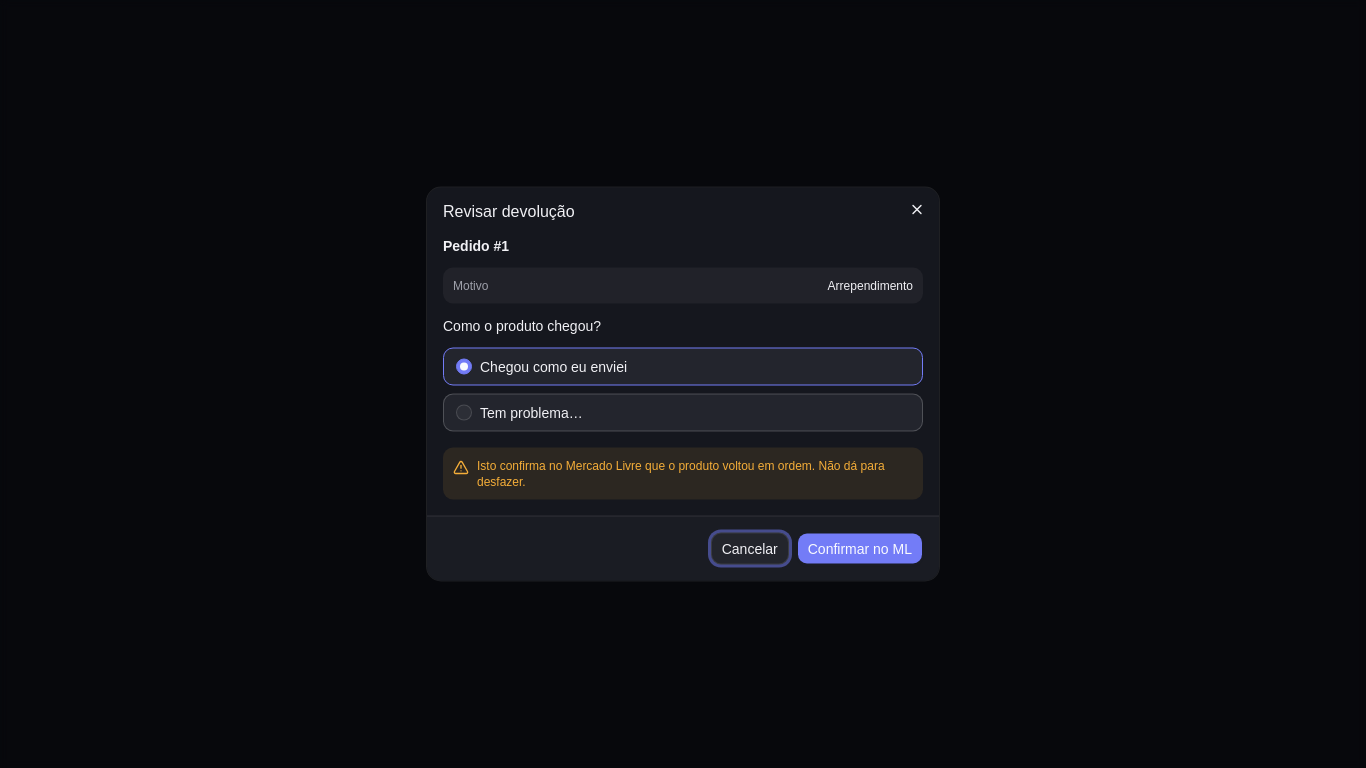
it: DialogoRevisarDevolucao › carrinho: pedido a pedido pede motivo para cada pedido
The width and height of the screenshot is (1366, 768).
Click the radio button named "Tem problema…" next to "Tem problema…". click: (464, 412)
box: [456, 404, 472, 420]
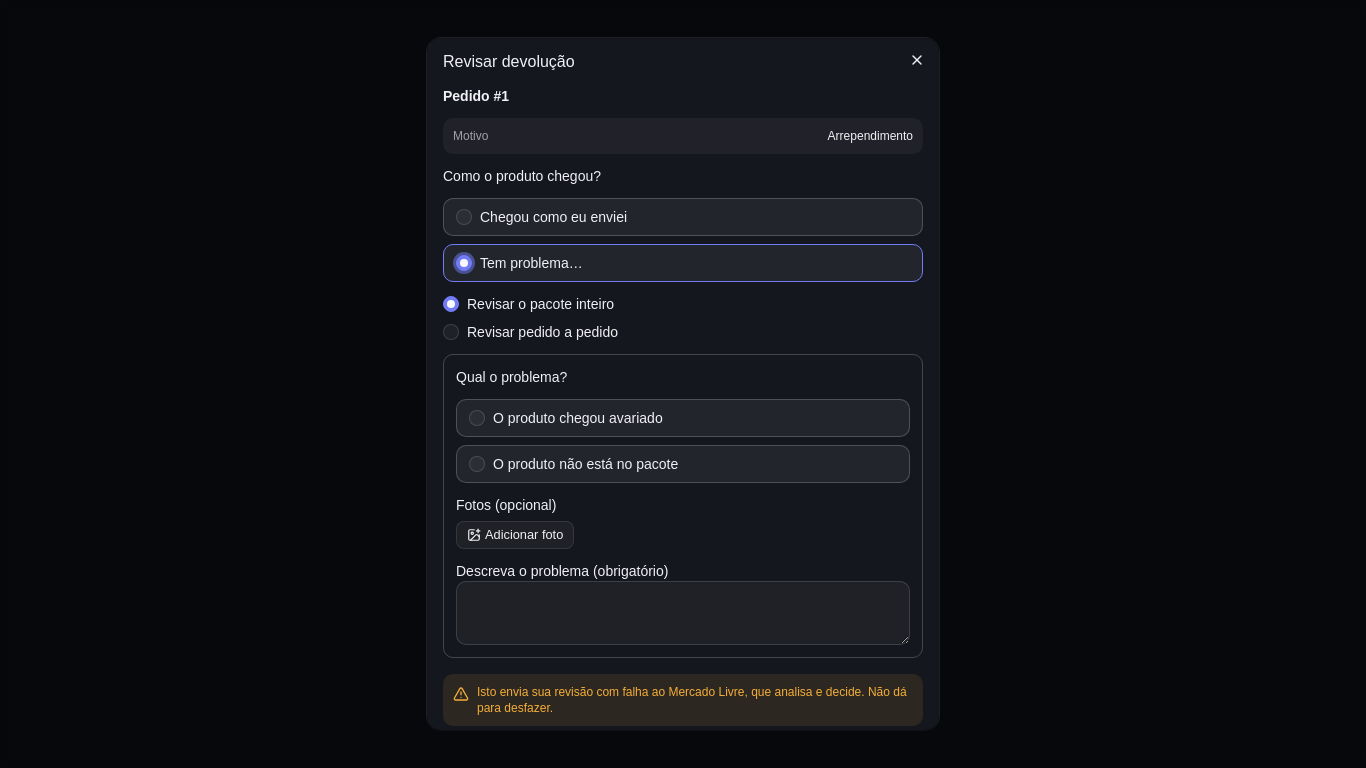
Click the radio button named "Revisar pedido a pedido" next to "Revisar pedido a pedido". click: (451, 332)
box: [443, 324, 459, 340]
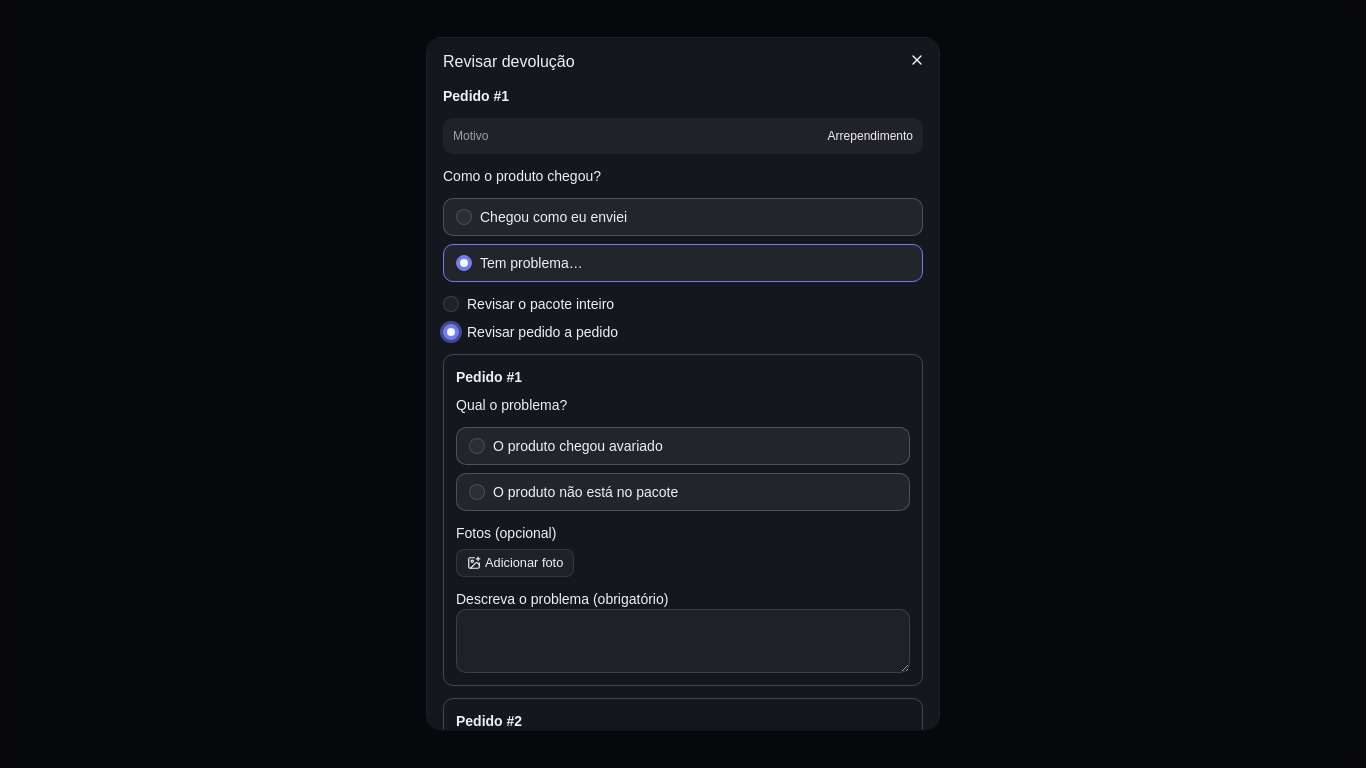
Check: the text "Pedido #1" is shown 2 times, box [443, 88, 509, 104]; [456, 369, 522, 385]
Check: the text "Pedido #2" is shown once, box [456, 713, 522, 729]
Check: the number of radio buttons named "O produto chegou avariado" is 2
